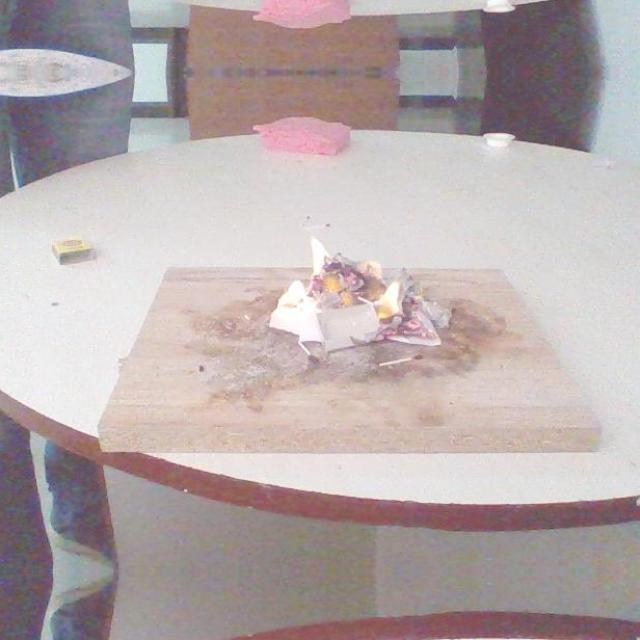smoke: (286, 235, 332, 303), (374, 278, 405, 320)
